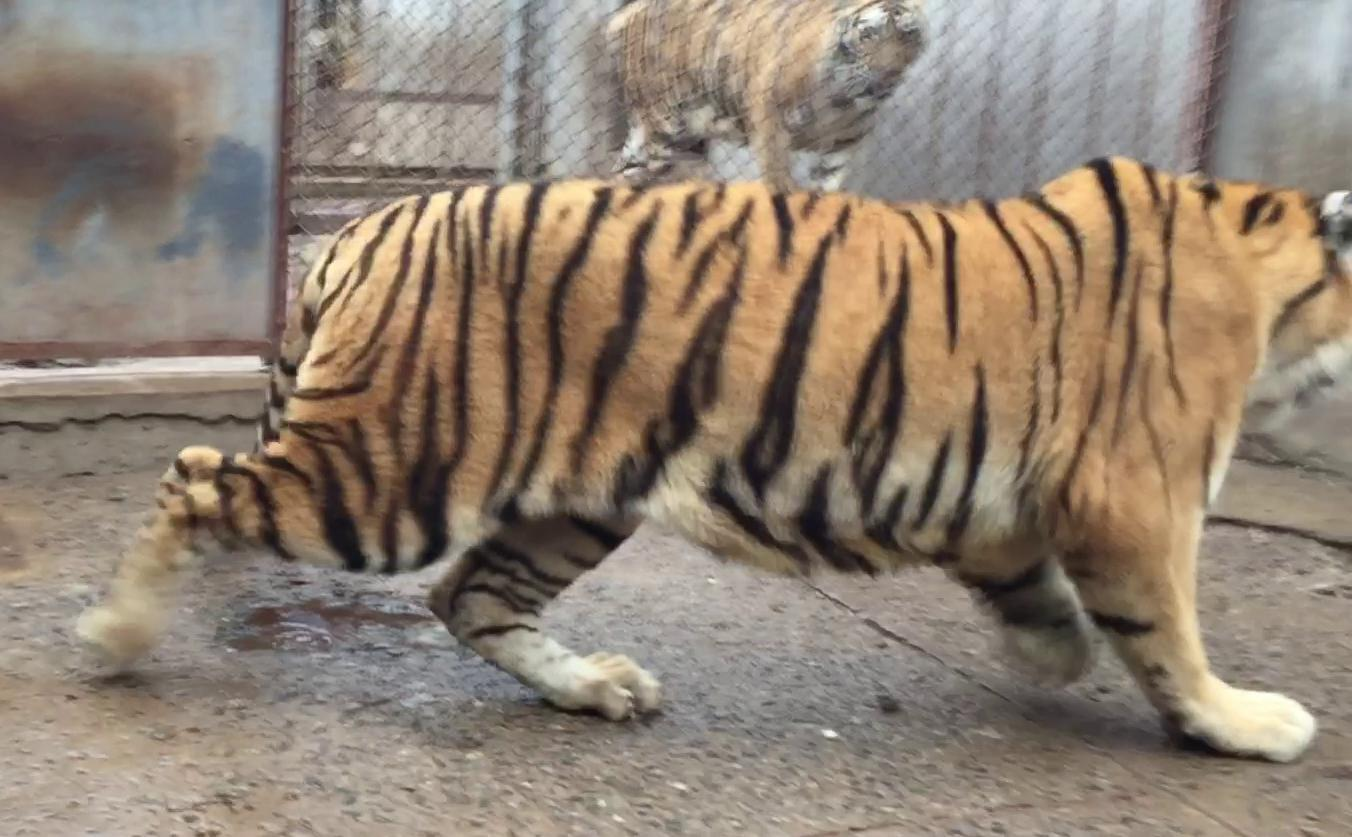tiger: (79, 158, 1351, 761)
